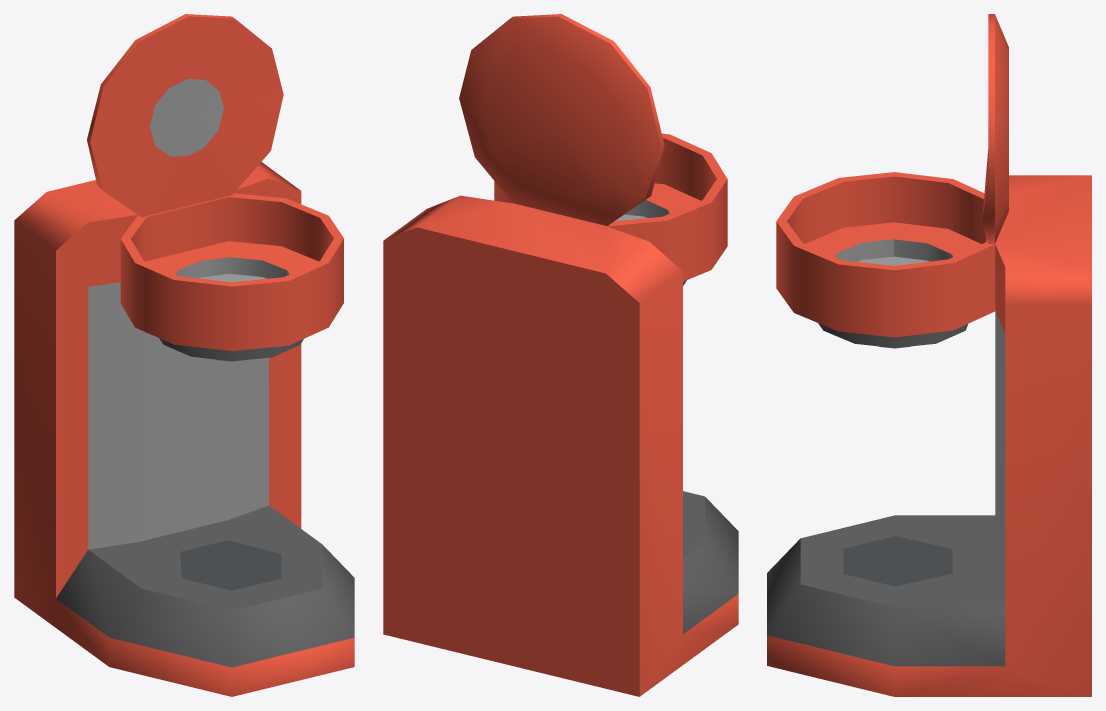
The model's file is SM_Prop_CoffeeMachine_02.obj.
3 views of the same model, side by side, from view 1: azimuth 30°, elevation 25°; view 2: azimuth 150°, elevation 25°; view 3: azimuth 270°, elevation 25° (orthographic). The views are drawn at different scales.
Visible parts, largest first — view 1: SM_Prop_CoffeeMachine_02_Mat_SwatchOverlay_PolygonTown_01_Inst; view 2: SM_Prop_CoffeeMachine_02_Mat_SwatchOverlay_PolygonTown_01_Inst; view 3: SM_Prop_CoffeeMachine_02_Mat_SwatchOverlay_PolygonTown_01_Inst.
Part boxes in pixels (box(x1,y1,x2,y2)): SM_Prop_CoffeeMachine_02_Mat_SwatchOverlay_PolygonTown_01_Inst: box(14, 14, 354, 696); SM_Prop_CoffeeMachine_02_Mat_SwatchOverlay_PolygonTown_01_Inst: box(383, 14, 738, 696); SM_Prop_CoffeeMachine_02_Mat_SwatchOverlay_PolygonTown_01_Inst: box(767, 14, 1091, 696).
Bounding box in the file's own units: 0.3034 × 0.6939 × 0.3346.
1 material, 1 textured.
